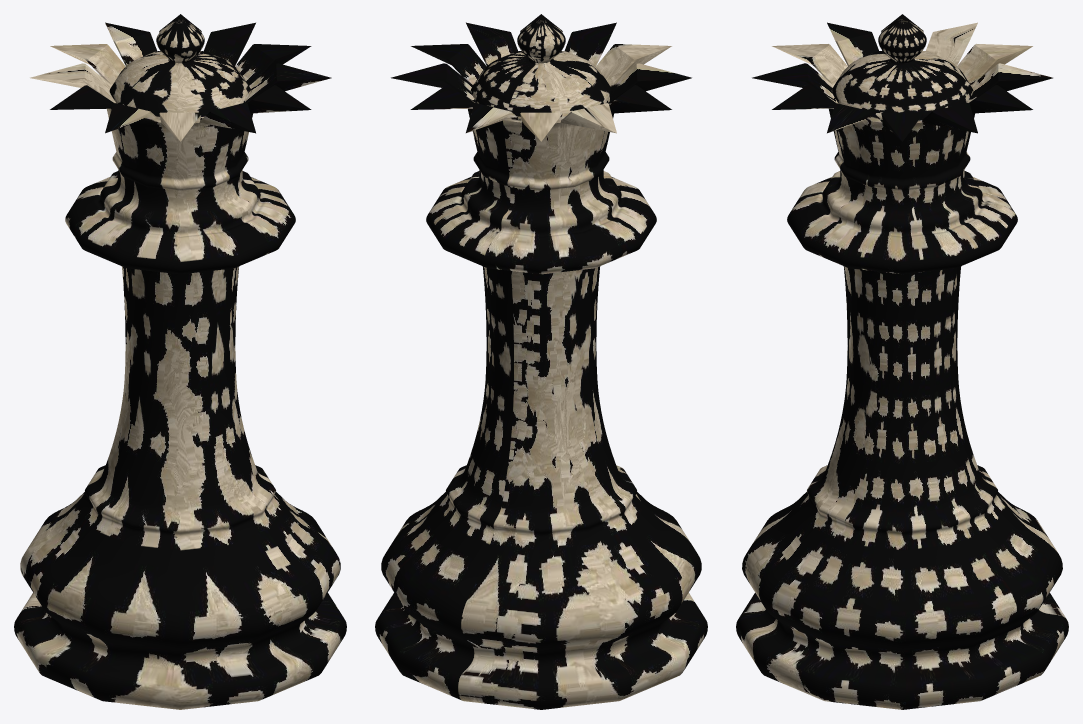
Rendered from queen.obj.
3 renders of one model, left to right at view 1: azimuth 30°, elevation 25°; view 2: azimuth 150°, elevation 25°; view 3: azimuth 270°, elevation 25°, orthographic.
Parts seen in each view (by area): view 1: mesh01; view 2: mesh01; view 3: mesh01.
Boxes of the visible parts, left/top/right/bottom form: mesh01: left=14, top=14, right=346, bottom=709; mesh01: left=375, top=14, right=707, bottom=709; mesh01: left=736, top=14, right=1068, bottom=709.
Size of the model in its own units: 14.93 by 30.95 by 14.93.
1 material, 1 textured.
